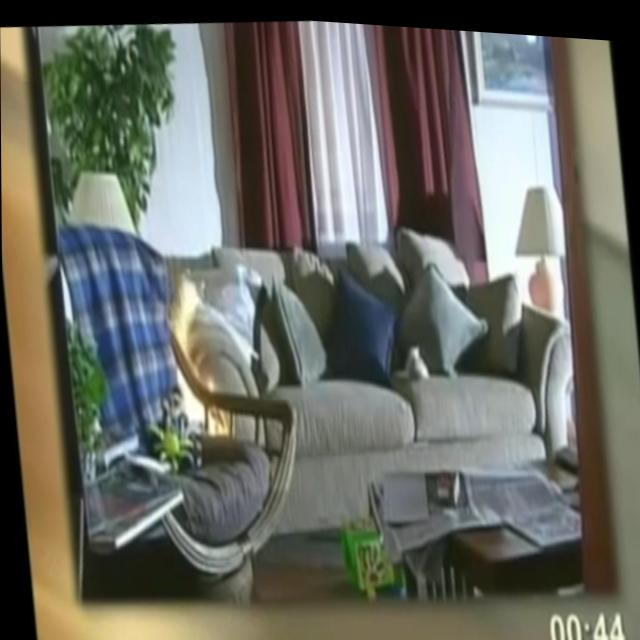fire: (157, 254, 235, 436)
